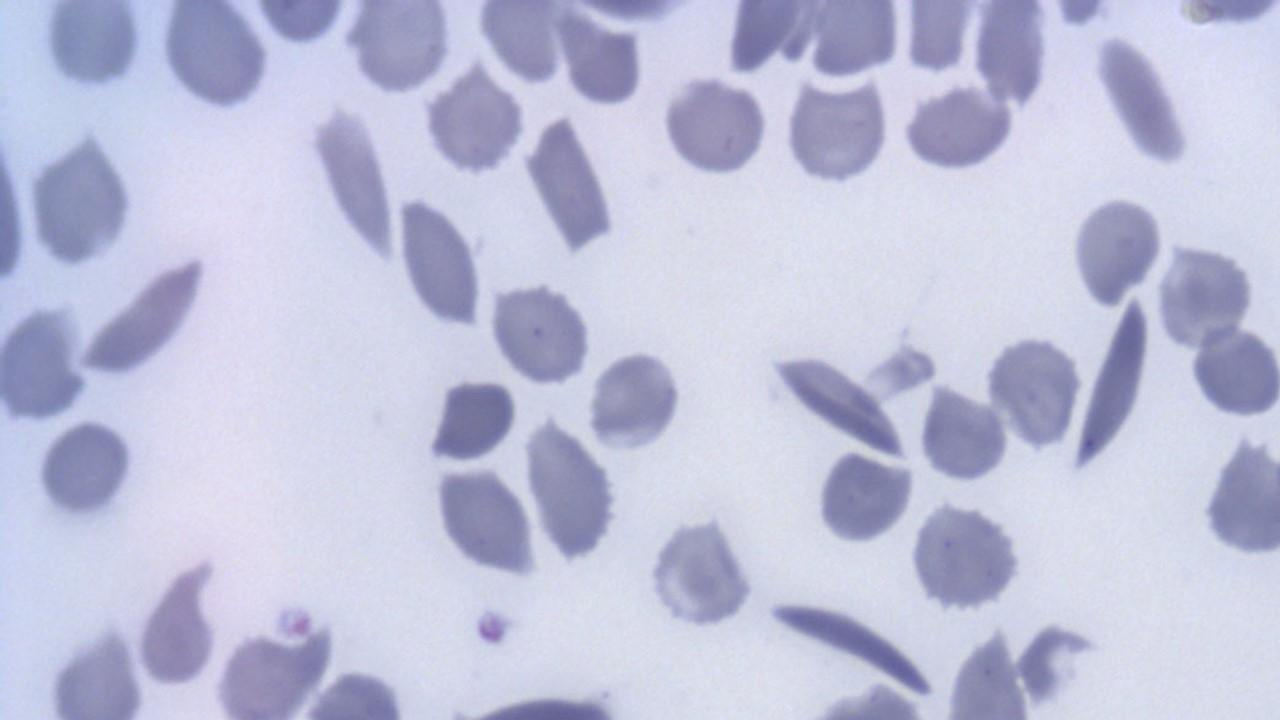Platelets: (1012, 618, 1107, 707), (469, 601, 520, 652), (1182, 0, 1276, 27), (1050, 0, 1110, 27)
RBC: (395, 188, 485, 332), (982, 330, 1083, 452), (160, 1, 271, 112), (782, 78, 892, 187), (658, 73, 773, 177), (433, 462, 536, 578), (0, 301, 94, 426), (31, 418, 139, 525), (584, 346, 690, 455), (1155, 241, 1257, 354), (488, 280, 595, 386), (1068, 194, 1166, 309), (900, 82, 1016, 174), (346, 2, 454, 96), (917, 382, 1010, 487), (40, 1, 143, 94), (1186, 322, 1280, 420), (971, 2, 1052, 109), (940, 623, 1029, 719), (424, 375, 520, 463), (476, 0, 567, 87), (564, 14, 645, 109), (805, 1, 902, 77), (0, 108, 30, 305), (902, 1, 974, 76), (246, 1, 350, 49)
WBC: (657, 0, 1280, 720), (283, 92, 425, 264), (25, 127, 140, 272), (522, 414, 628, 569), (521, 108, 625, 257), (906, 498, 1031, 616), (485, 272, 604, 393), (644, 510, 760, 634), (418, 58, 536, 178), (584, 341, 697, 460), (396, 186, 488, 332), (984, 323, 1086, 454), (156, 1, 276, 111), (656, 70, 776, 180), (1069, 188, 1169, 316), (432, 464, 540, 580), (783, 78, 896, 187), (31, 415, 141, 526), (337, 1, 461, 96), (0, 300, 90, 426), (899, 82, 1018, 172), (811, 448, 916, 548), (37, 2, 147, 97), (1200, 432, 1280, 559), (918, 382, 1010, 486), (1187, 318, 1280, 418), (939, 622, 1032, 716), (472, 0, 570, 87), (424, 374, 518, 464)
